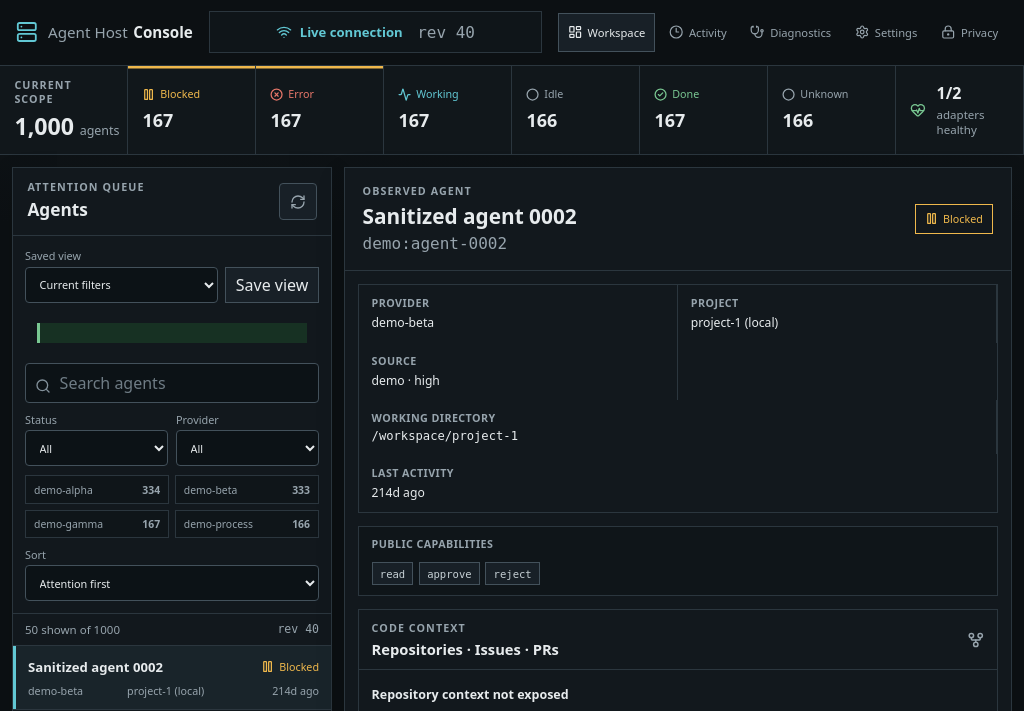
Test: evaluation dashboard › reports a notification permission request failure
The image size is (1024, 711).
Expected: the text "50 shown of 1000" is shown, [25,622,120,637]
What coordinates should you click on to do the following:
click the button "Settings"
I would click on:
 (886, 32)
Its box is [845,13,927,52].
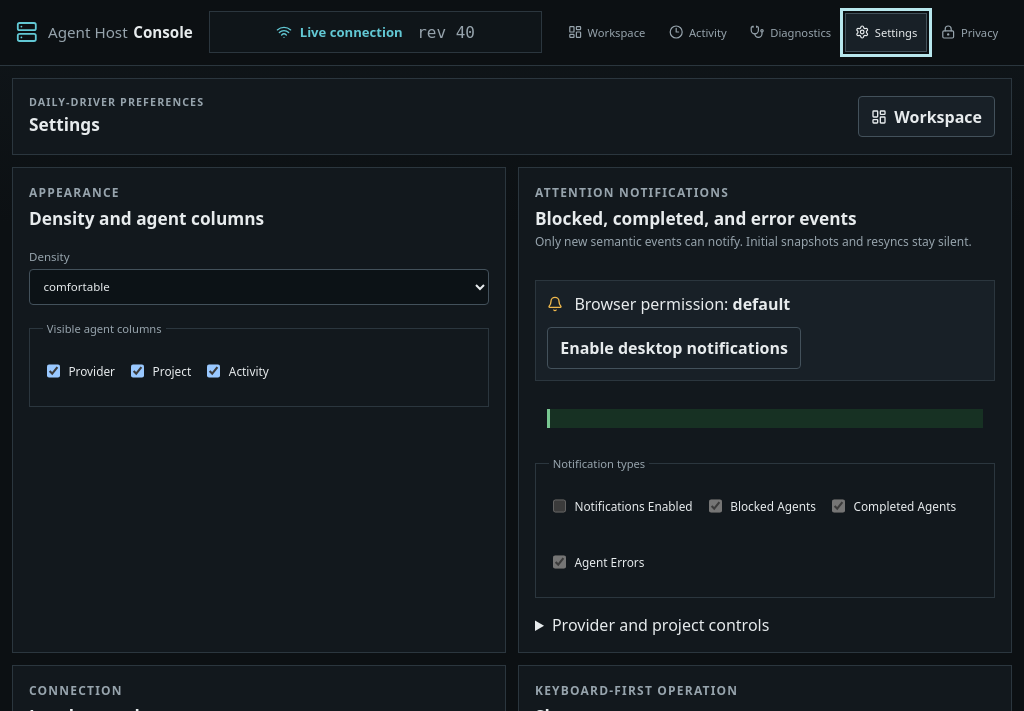
What coordinates should you click on to do the following:
click the button "Enable desktop notifications"
I would click on:
 (674, 348)
Its box is [547,327,801,368].
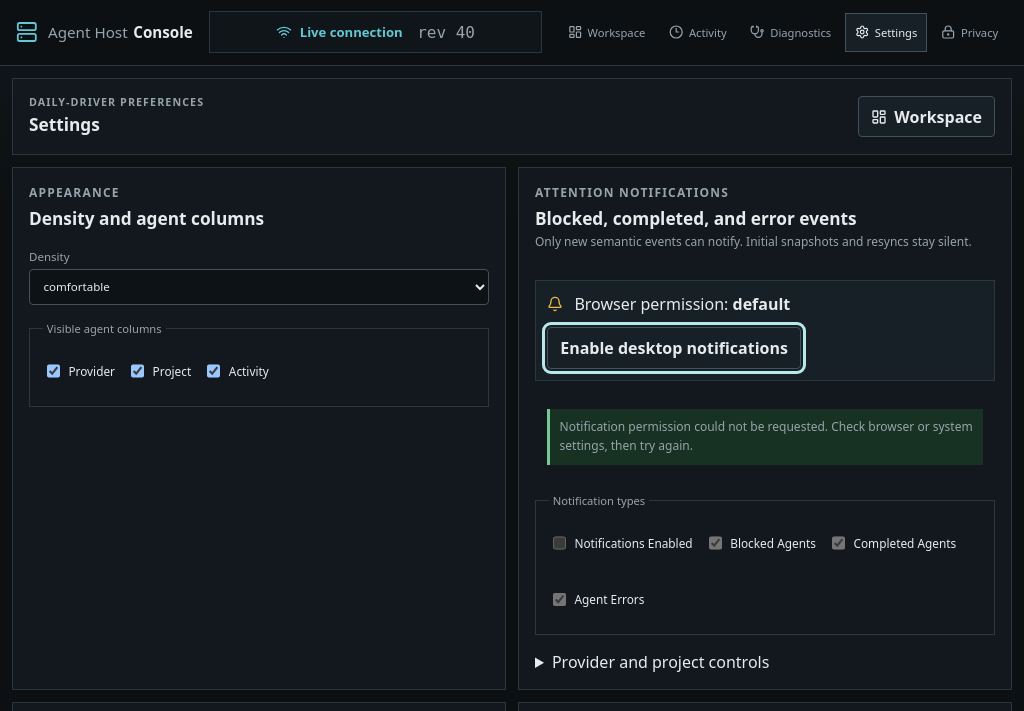
Expected: the text "Browser permission: default" is shown, [574,293,790,315]
Expected: the text "Notification permission could not be requested" is shown, [560,418,973,454]
